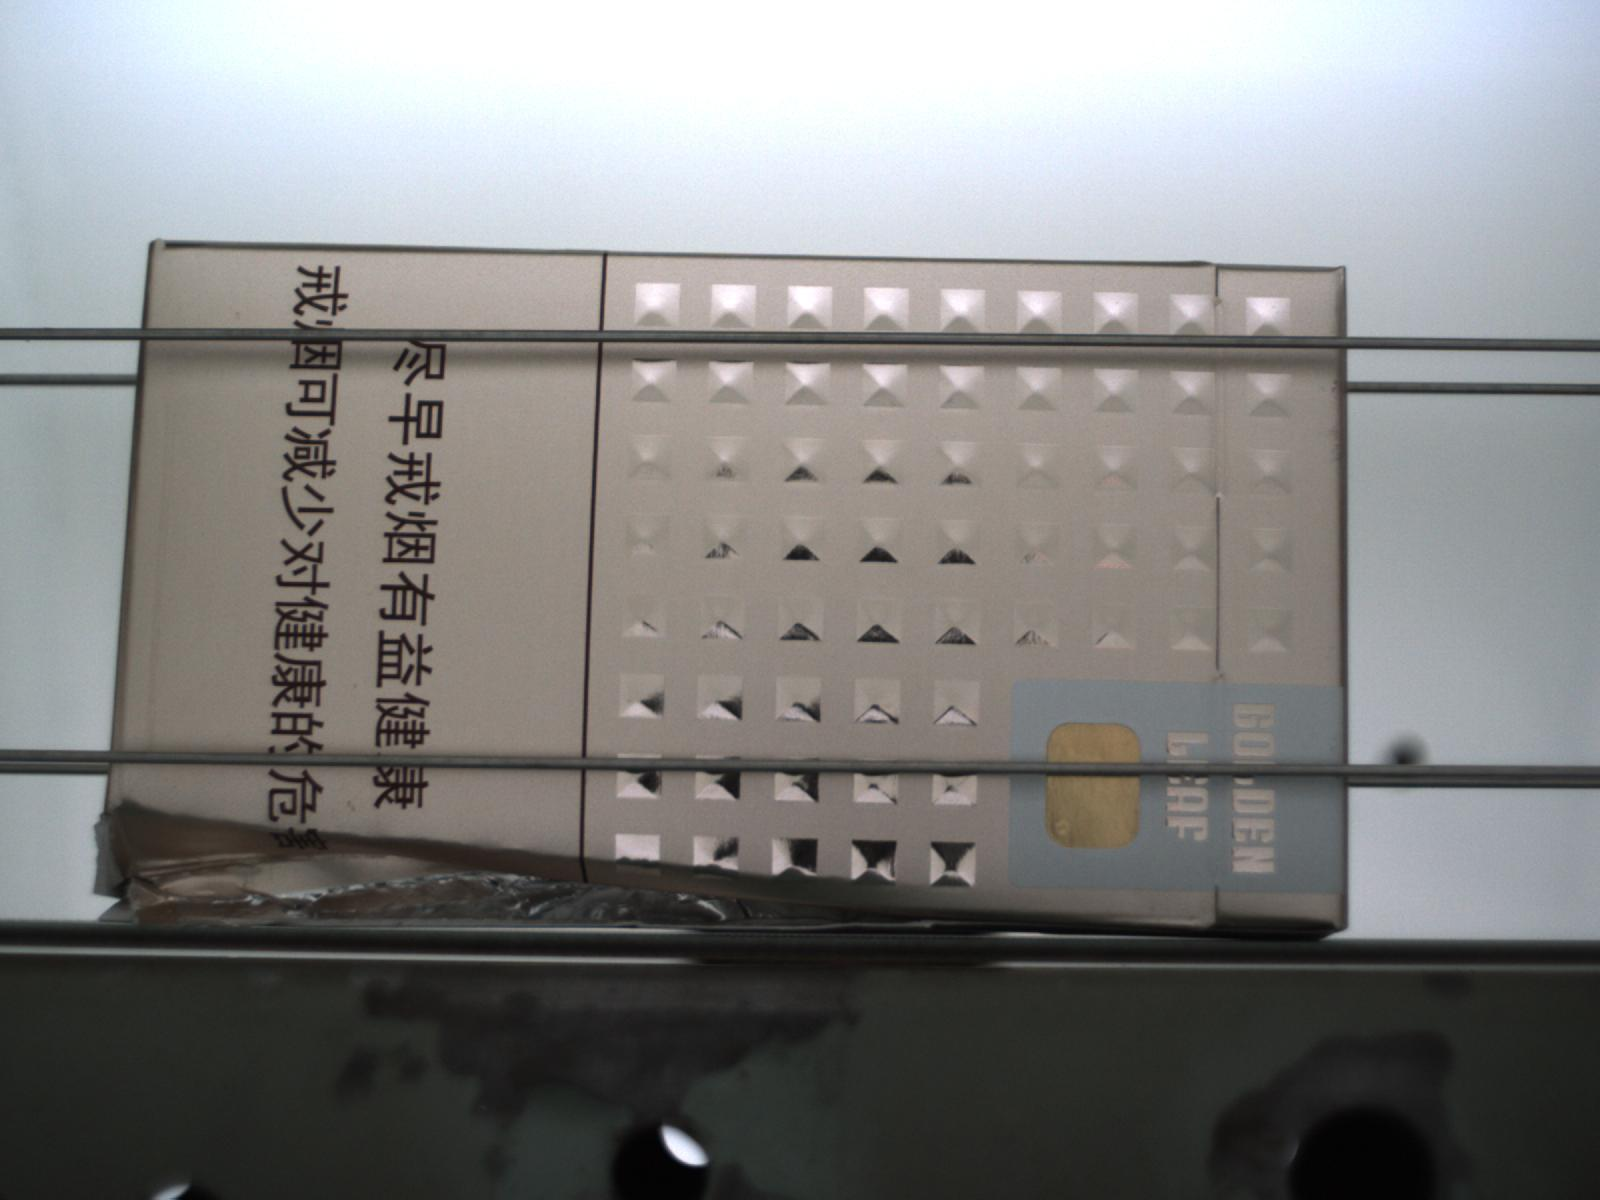boxDamage_back_heavy: (88, 787, 1082, 940)
dirtyScratch: (141, 393, 178, 747)
dirtySpot: (233, 309, 244, 320)
